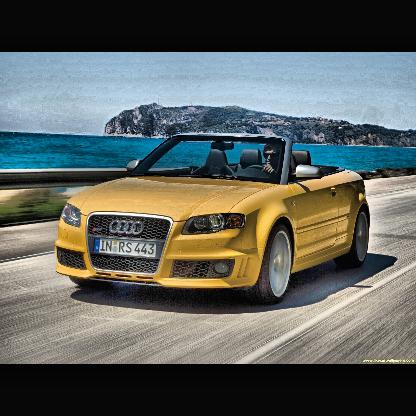Audi RS 4 Convertible 2008: (55, 134, 373, 304)
